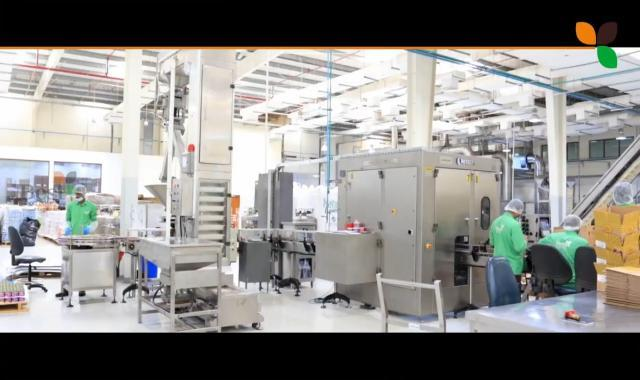Glove: (82, 226, 90, 235), (66, 227, 73, 235)
Hairnet: (562, 216, 580, 232), (504, 200, 523, 215)
Mask: (75, 195, 85, 202)
No_Apron: (491, 219, 524, 270), (548, 236, 582, 272), (71, 202, 91, 236), (74, 185, 87, 194)
